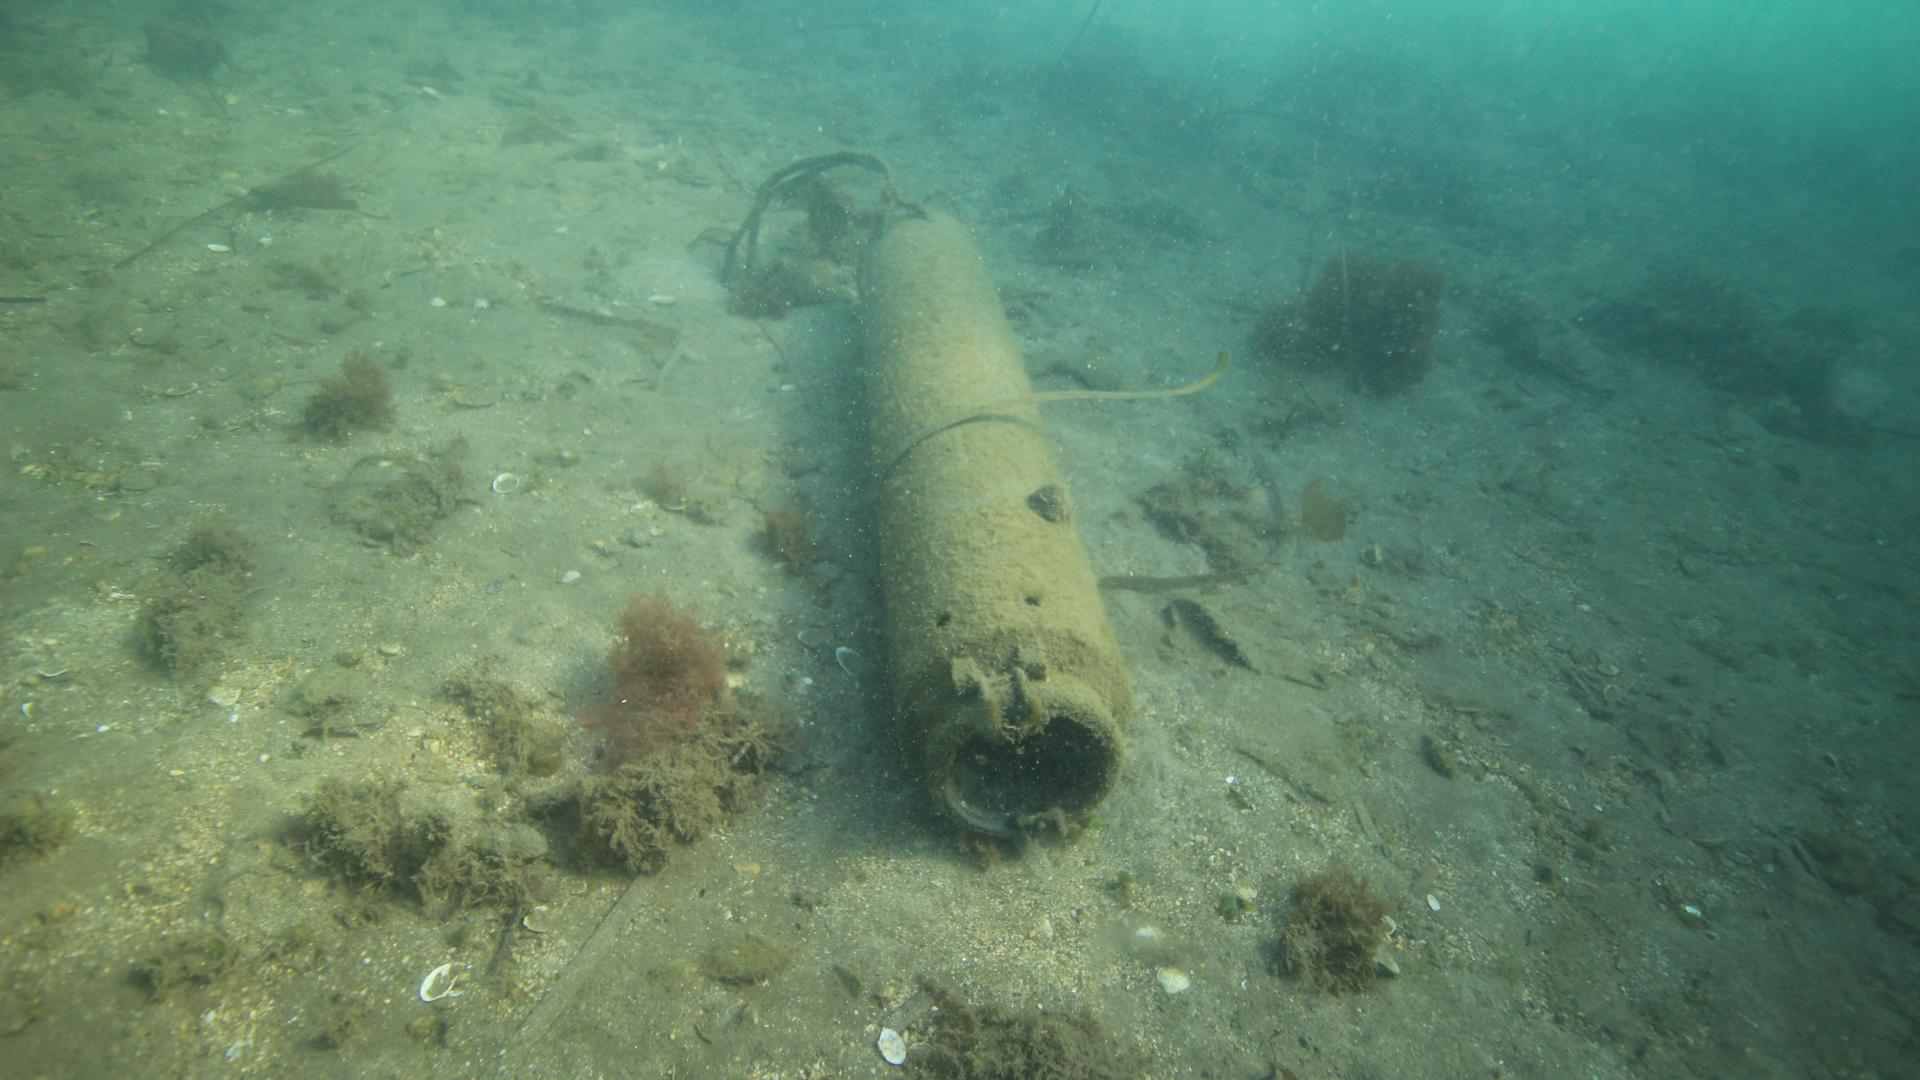bundle of ropes: (709, 146, 897, 289)
eel fish trap: (856, 208, 1135, 852)
